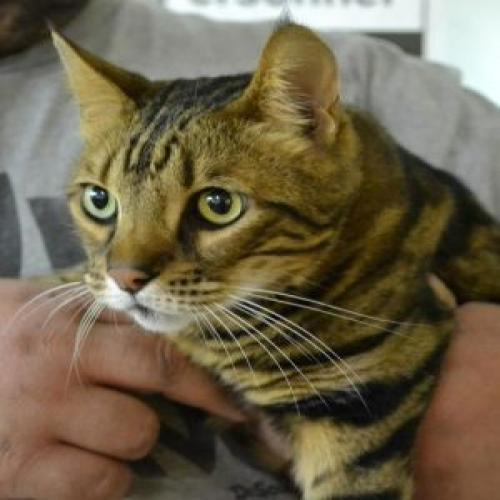cat-face: (30, 16, 378, 342)
